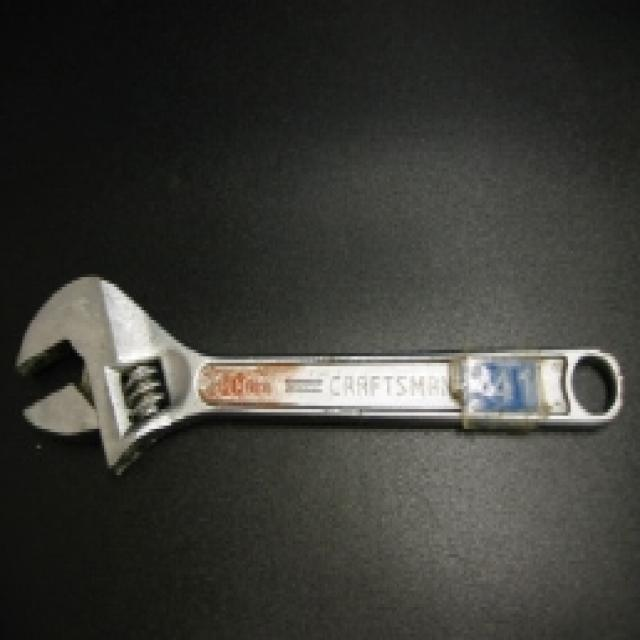wrench: (5, 252, 618, 474)
